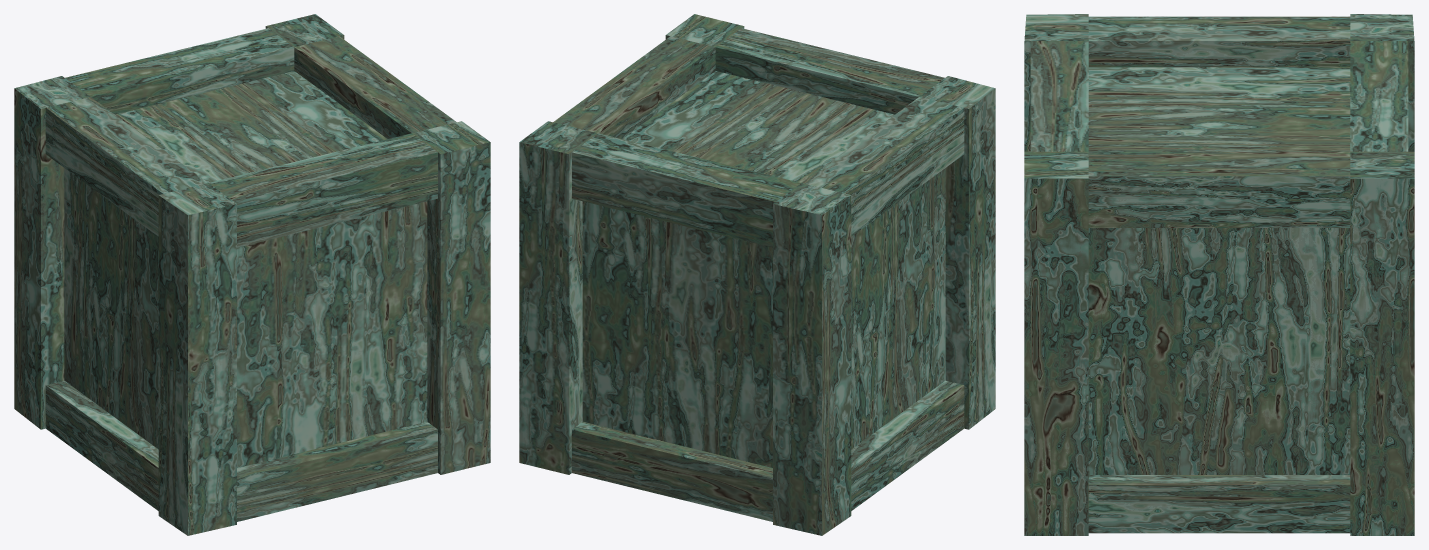
File: Crate_1x1.FBX
3 views of the same model, side by side, from view 1: azimuth 30°, elevation 25°; view 2: azimuth 150°, elevation 25°; view 3: azimuth 270°, elevation 25° (orthographic). The views are drawn at different scales.
Visible parts, largest first — view 1: Box026; view 2: Box026; view 3: Box026.
Part boxes in pixels (bbox=[...]): Box026: bbox=[14, 14, 490, 535]; Box026: bbox=[519, 14, 995, 535]; Box026: bbox=[1024, 14, 1414, 535].
Bounding box in the file's own units: 103 × 104 × 103.
